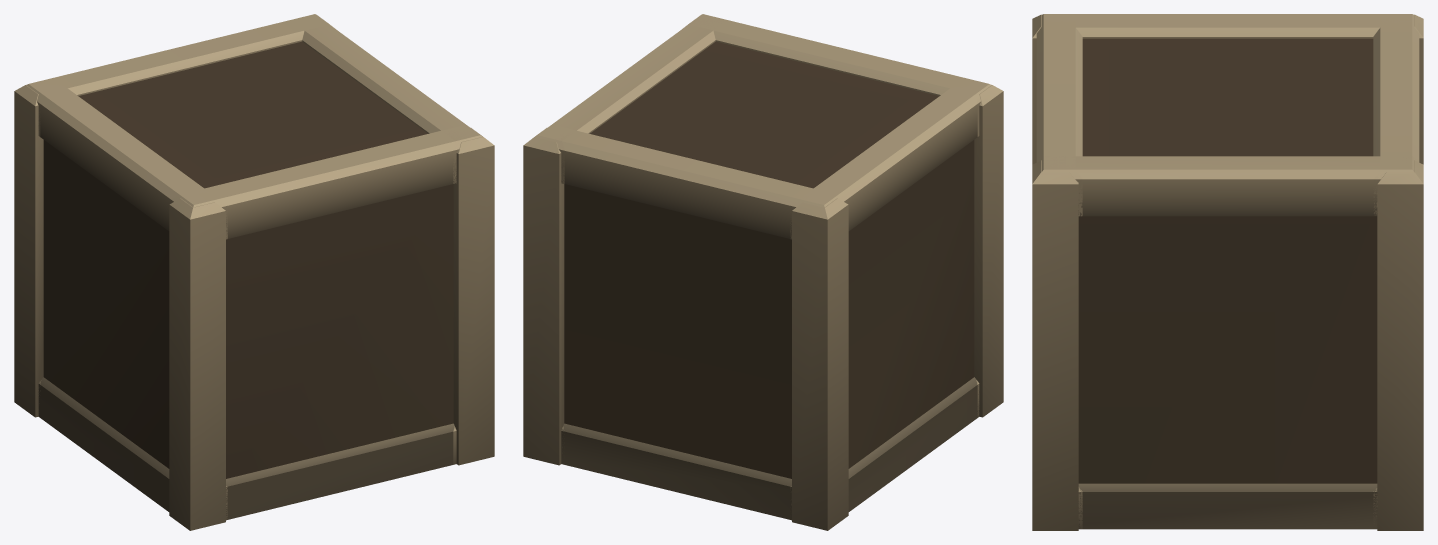
Rendered from caisse.glb.
3 views of the same model, side by side, from view 1: azimuth 30°, elevation 25°; view 2: azimuth 150°, elevation 25°; view 3: azimuth 270°, elevation 25° (orthographic). The views are drawn at different scales.
Parts seen in each view (by area): view 1: caisse; view 2: caisse; view 3: caisse.
Part boxes in pixels (bbox=[...]): caisse: bbox=[14, 14, 494, 530]; caisse: bbox=[523, 14, 1003, 530]; caisse: bbox=[1032, 14, 1423, 530].
Size of the model in its own units: 1.1 by 1.11 by 1.1.
